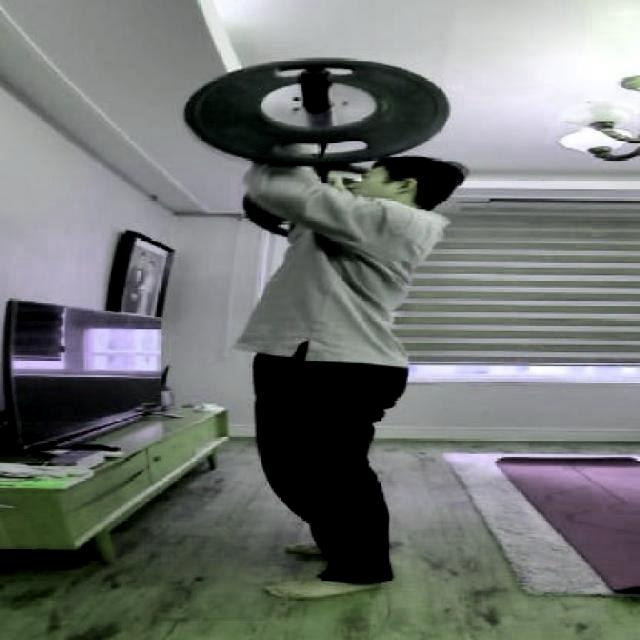barbell: (168, 53, 465, 178)
